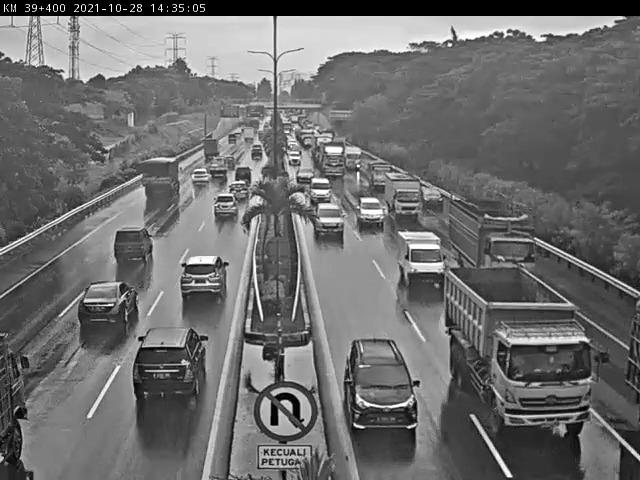big truck: (442, 266, 603, 445), (442, 192, 548, 280), (0, 322, 59, 477), (128, 155, 183, 211)
car: (125, 316, 219, 421), (341, 337, 425, 436), (64, 276, 148, 341), (165, 247, 233, 311), (390, 227, 454, 294), (89, 219, 163, 270), (312, 198, 347, 244), (353, 193, 384, 232), (203, 198, 239, 229), (422, 179, 444, 217), (305, 172, 334, 199), (223, 187, 248, 210), (191, 168, 212, 191), (229, 170, 252, 188)
small truck: (378, 172, 418, 221)
